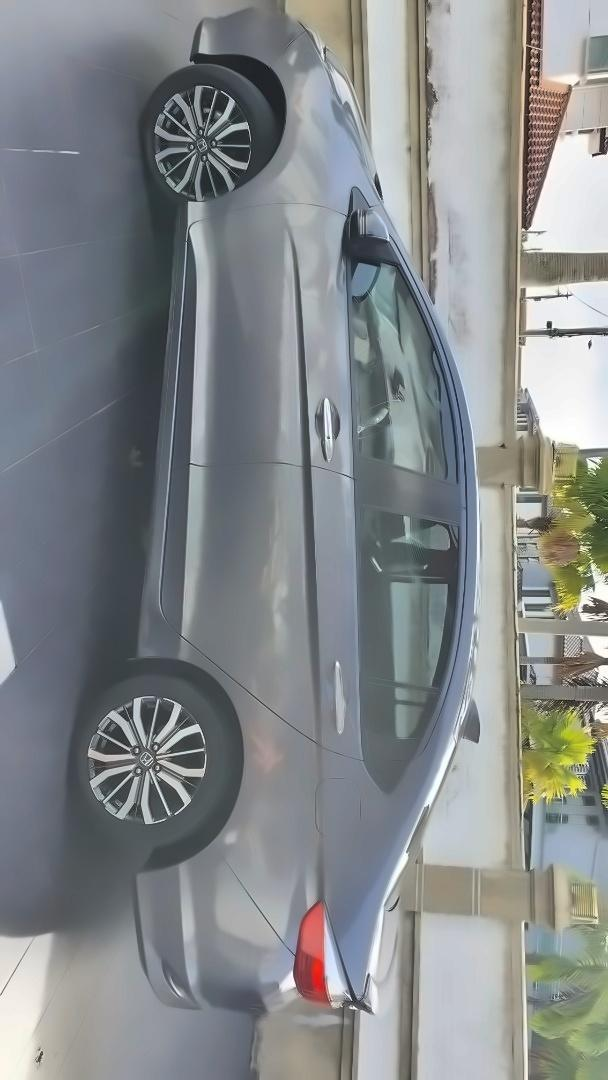Fender - -F-L-: (140, 108, 414, 271)
Fender - -R-L-: (100, 608, 375, 998)
Front bumper: (184, 0, 330, 77)
Headlight - -L-: (307, 20, 396, 202)
Passenger-s door - -F-L-: (184, 217, 470, 467)
Passenger-s door - -R-L-: (175, 465, 477, 807)
Rear bumper: (123, 810, 347, 1054)
Rear light - -L-: (278, 889, 367, 1034)
Side bumper - -L-: (132, 189, 217, 680)
Side mirror - -L-: (323, 226, 384, 350)
